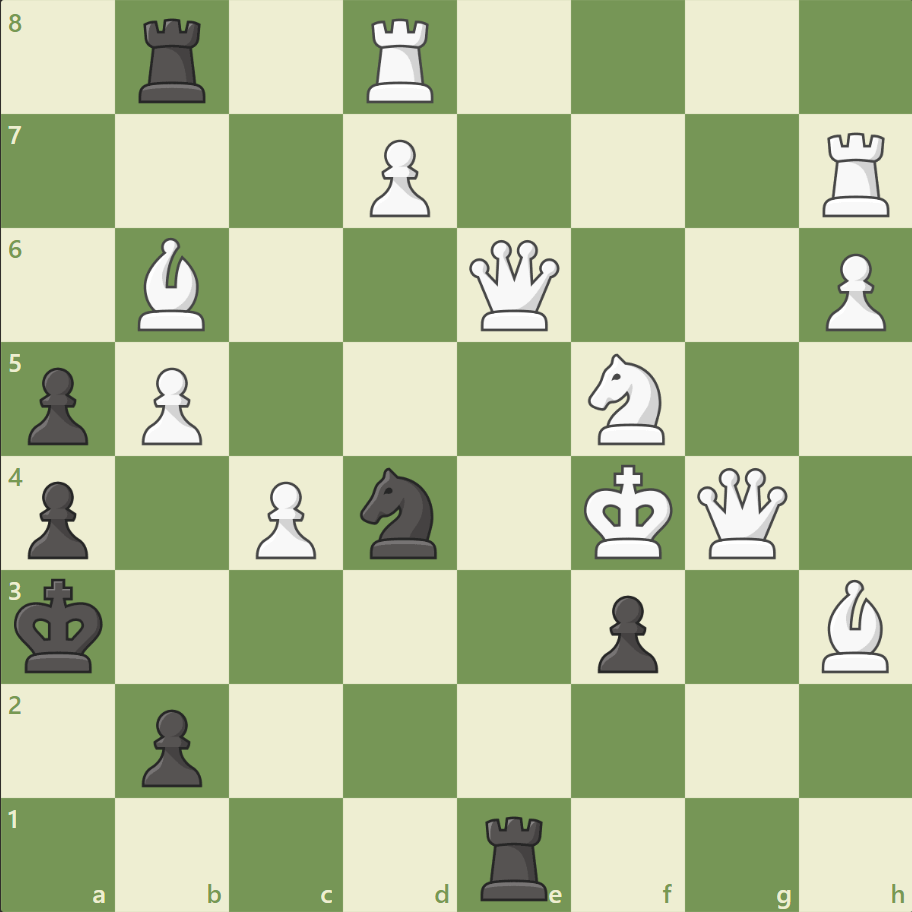B: (131, 233, 215, 336), (812, 574, 896, 676)
K: (579, 458, 679, 566)
N: (579, 348, 676, 450)
P: (133, 359, 208, 450), (247, 473, 322, 564), (361, 132, 435, 223), (815, 246, 889, 337)
Q: (464, 236, 563, 335), (691, 463, 790, 562)
R: (814, 125, 897, 222), (360, 12, 442, 109)
k: (11, 571, 111, 679)
n: (351, 461, 449, 564)
p: (20, 359, 95, 450), (20, 473, 95, 564), (133, 700, 208, 791), (588, 586, 662, 677)
r: (473, 806, 556, 904), (133, 12, 215, 109)
